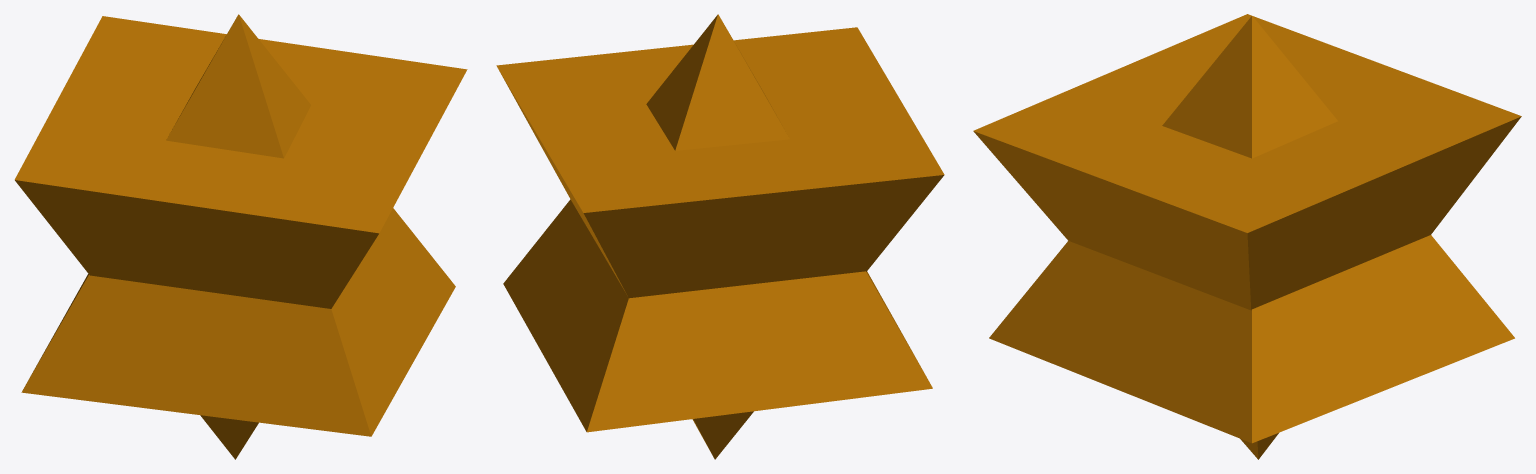
File: finalstarcollectible.fbx
3 renders of one model, left to right at view 1: azimuth 30°, elevation 25°; view 2: azimuth 150°, elevation 25°; view 3: azimuth 270°, elevation 25°, orthographic.
Visible parts, largest first — view 1: pPyramid4; view 2: pPyramid4; view 3: pPyramid4.
Part boxes in pixels (bbox=[...]): pPyramid4: bbox=[14, 14, 467, 459]; pPyramid4: bbox=[496, 14, 944, 459]; pPyramid4: bbox=[973, 14, 1521, 459].
Size of the model in its own units: 1.22 by 1.16 by 1.29.
